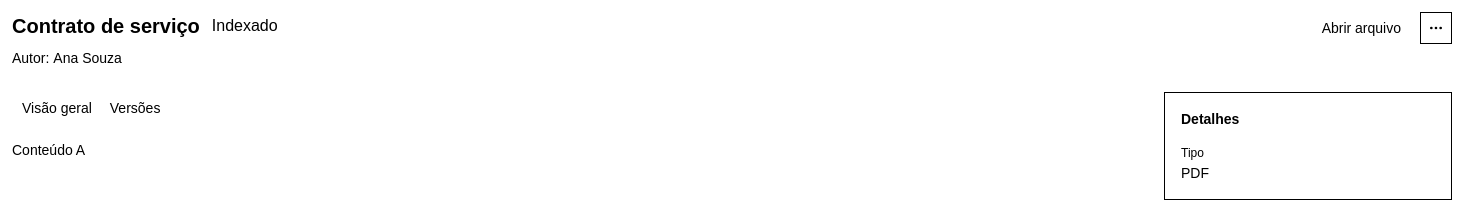
Scenario: DetailPage › abas: mostra a primeira, troca ao clicar e avisa o pai
Expected: the text "Conteúdo A" is shown, [12, 142, 85, 158]
Click the tab "Versões" at (135,108), box [103, 96, 167, 120]
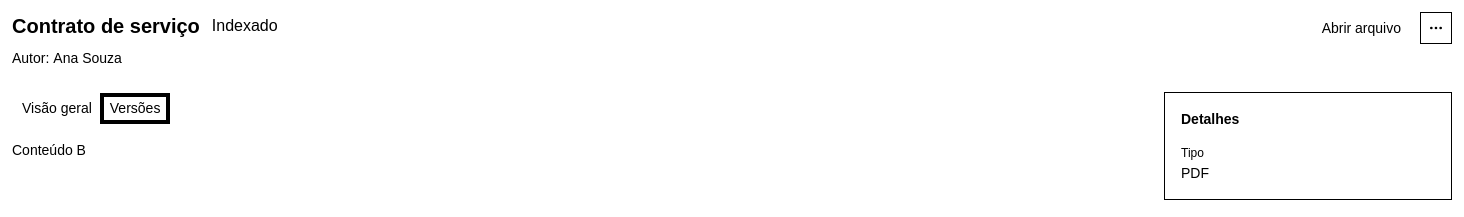
Expected: the text "Conteúdo B" is shown, [12, 142, 86, 158]
